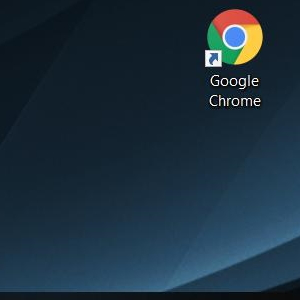chrome: (204, 8, 262, 67)
